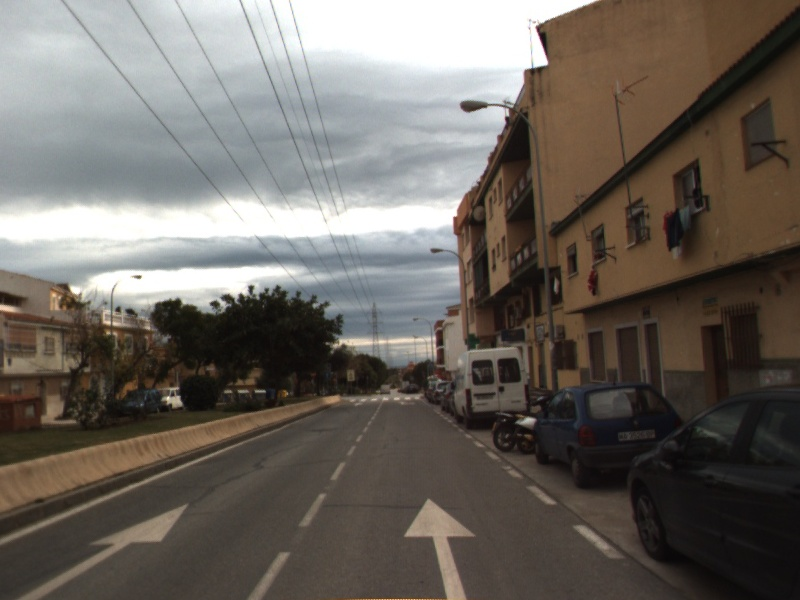STRAIGHT: (14, 501, 191, 600), (402, 496, 479, 600)
